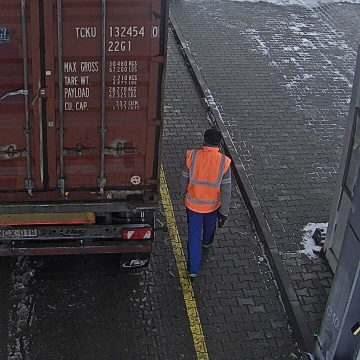serial_id: (75, 26, 158, 37)
